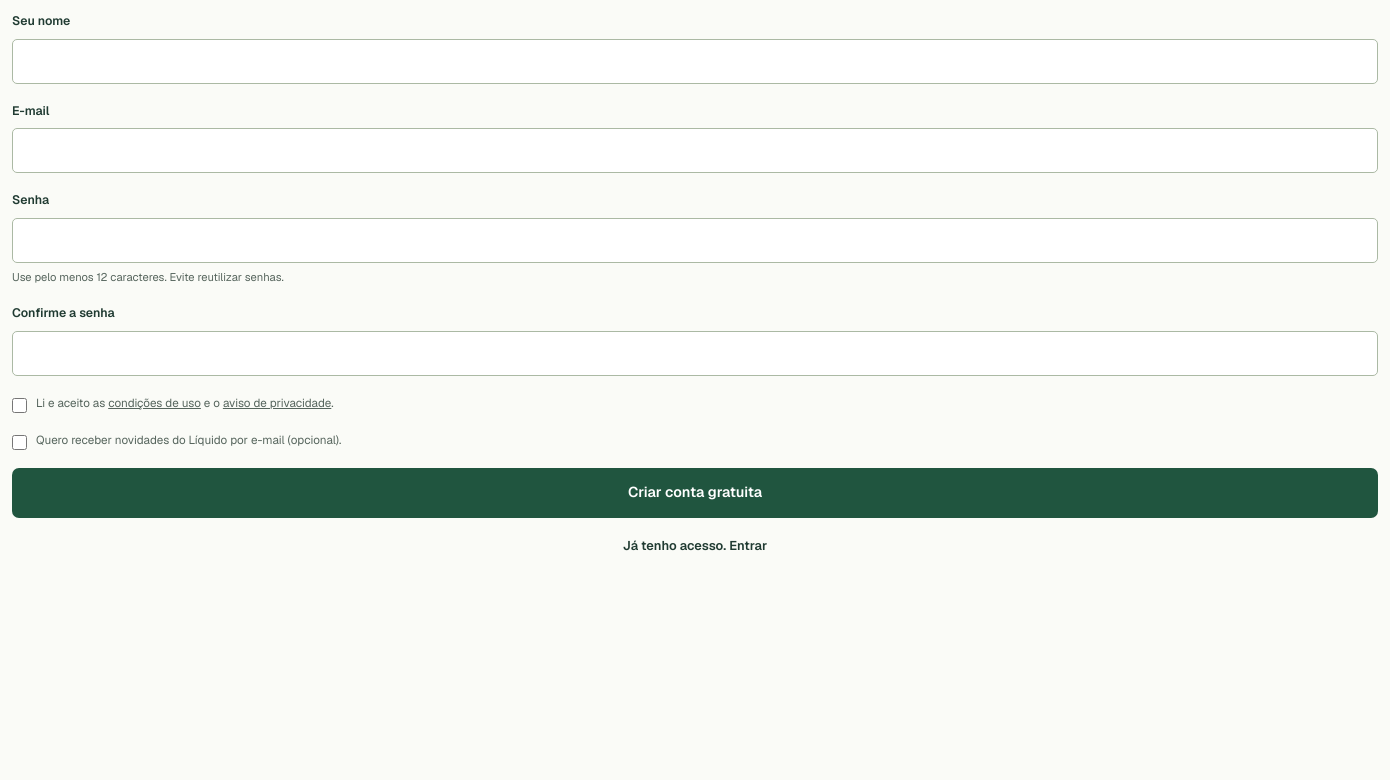
AuthForm › signUp_localNonTestEmail_showsAllowedDomainWithoutRequest
In the field labelled "Seu nome": x=695, y=61 [12,39,1378,84], type "Teste"
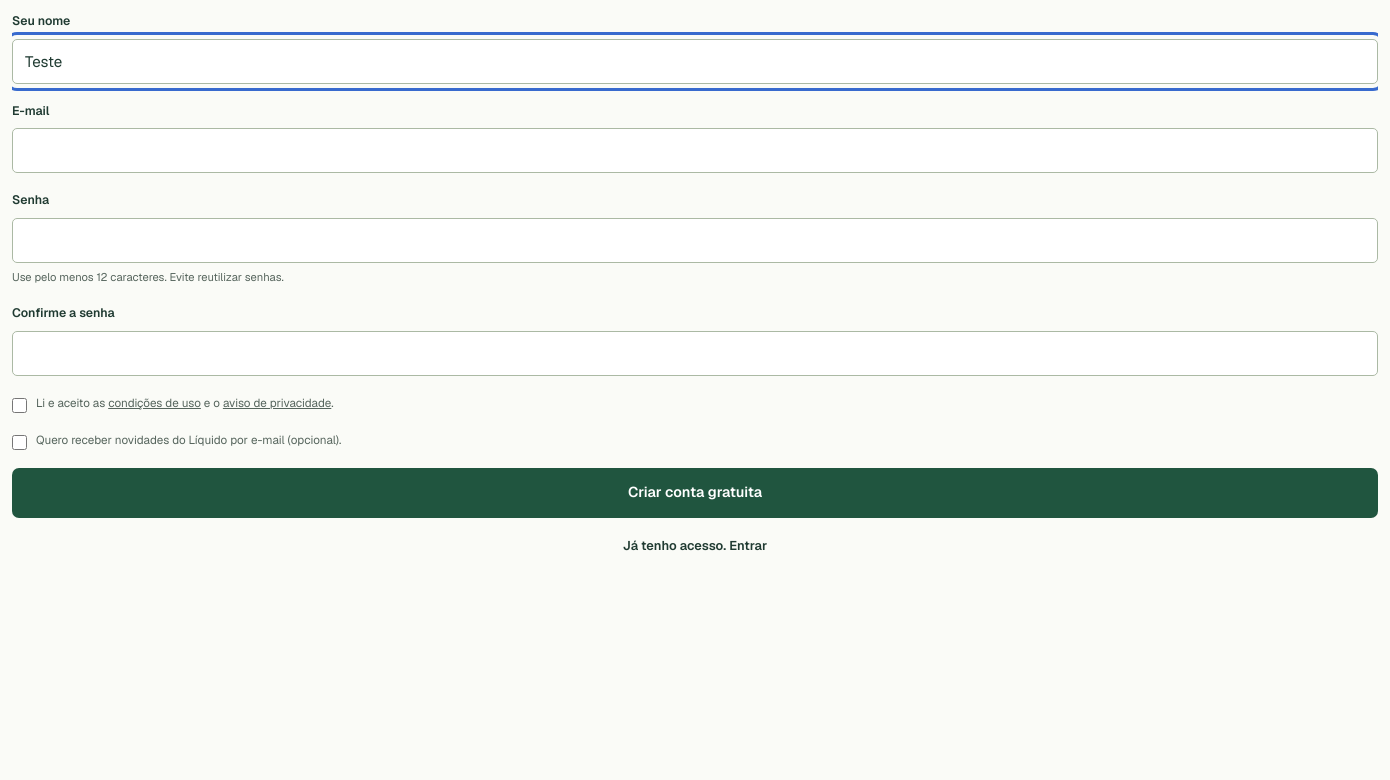
In the field labelled "E-mail": x=695, y=151 [12,128,1378,173], type "teste@example.com"
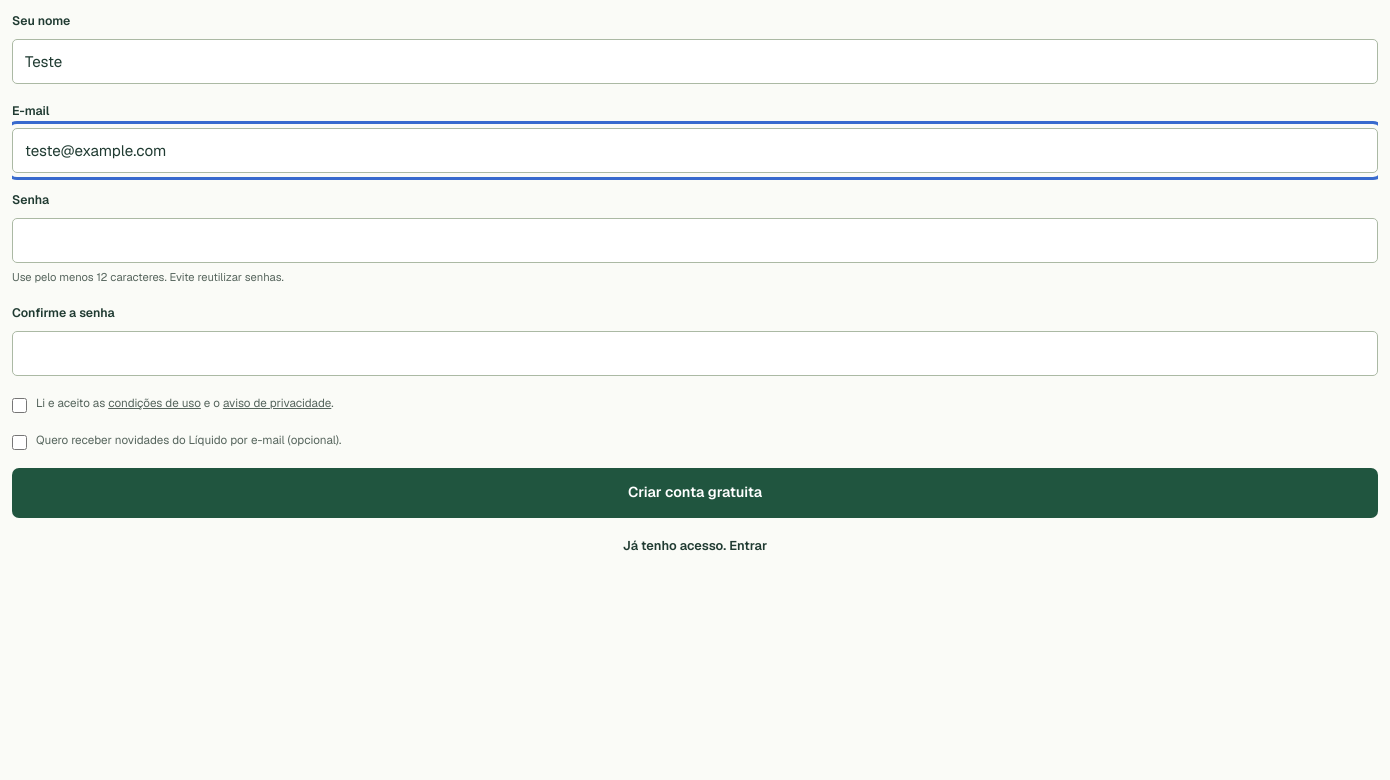
In the password field labelled "Senha": x=695, y=241 [12,218,1378,263], type "senha-de-teste-segura"
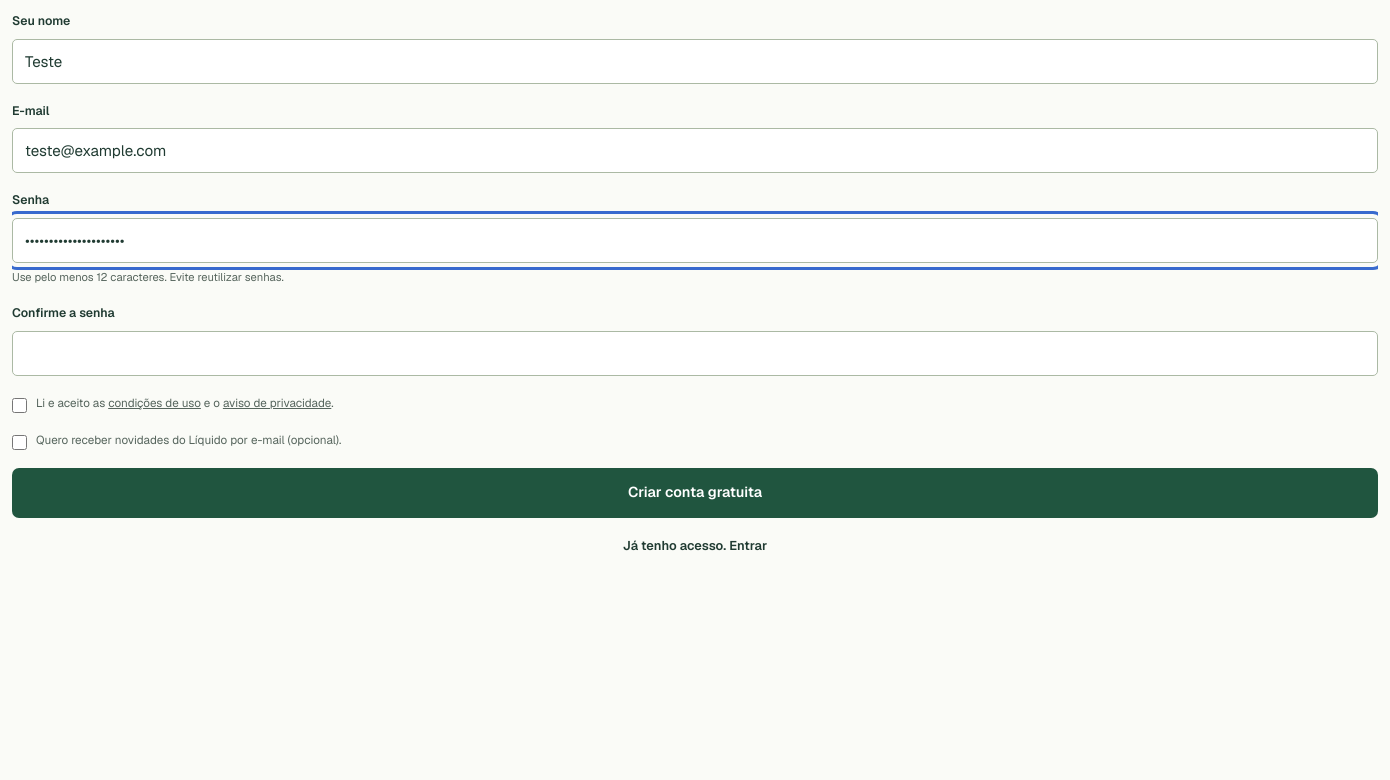
In the password field labelled "Confirme a senha": x=695, y=353 [12,330,1378,376], type "senha-de-teste-segura"
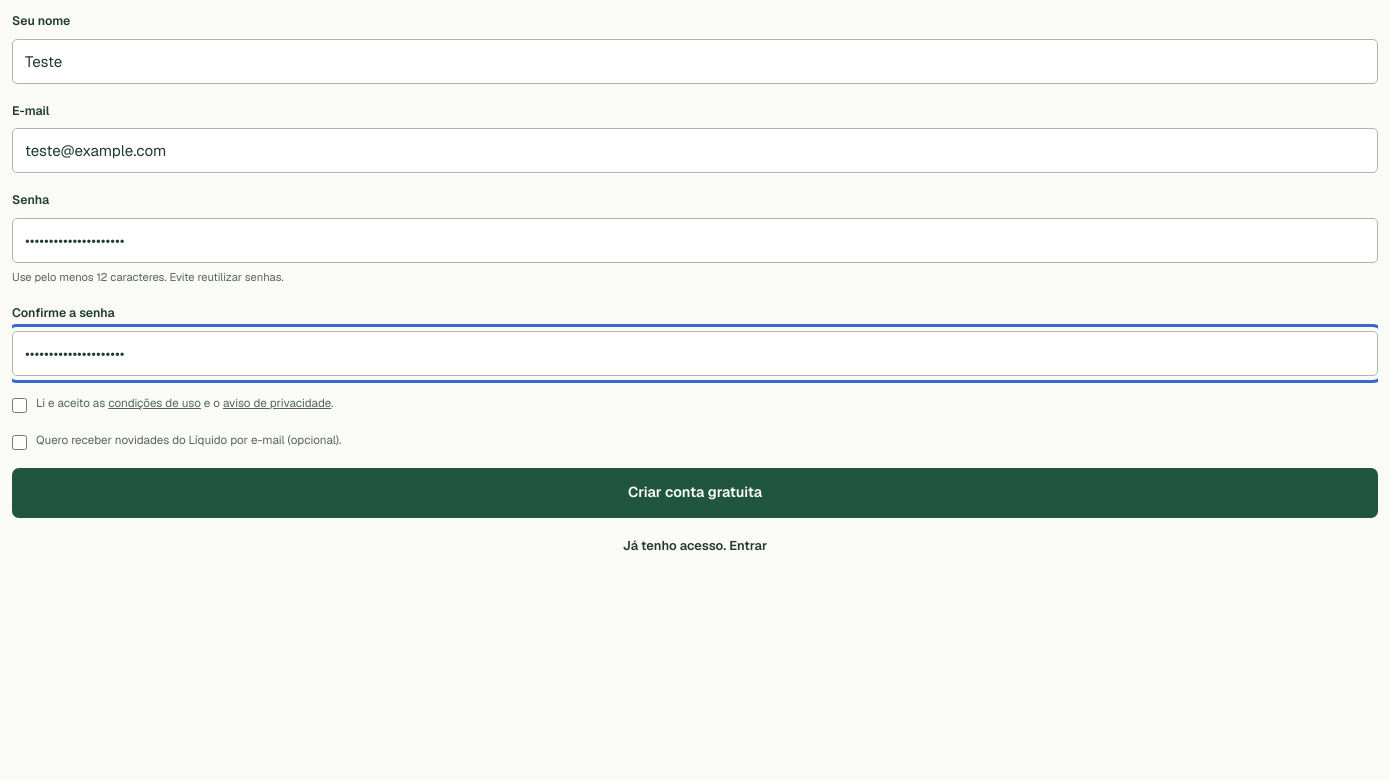
Click the checkbox labelled "Li e aceito as condições de uso e o aviso de privacidade .": x=20, y=405 [12,398,27,412]
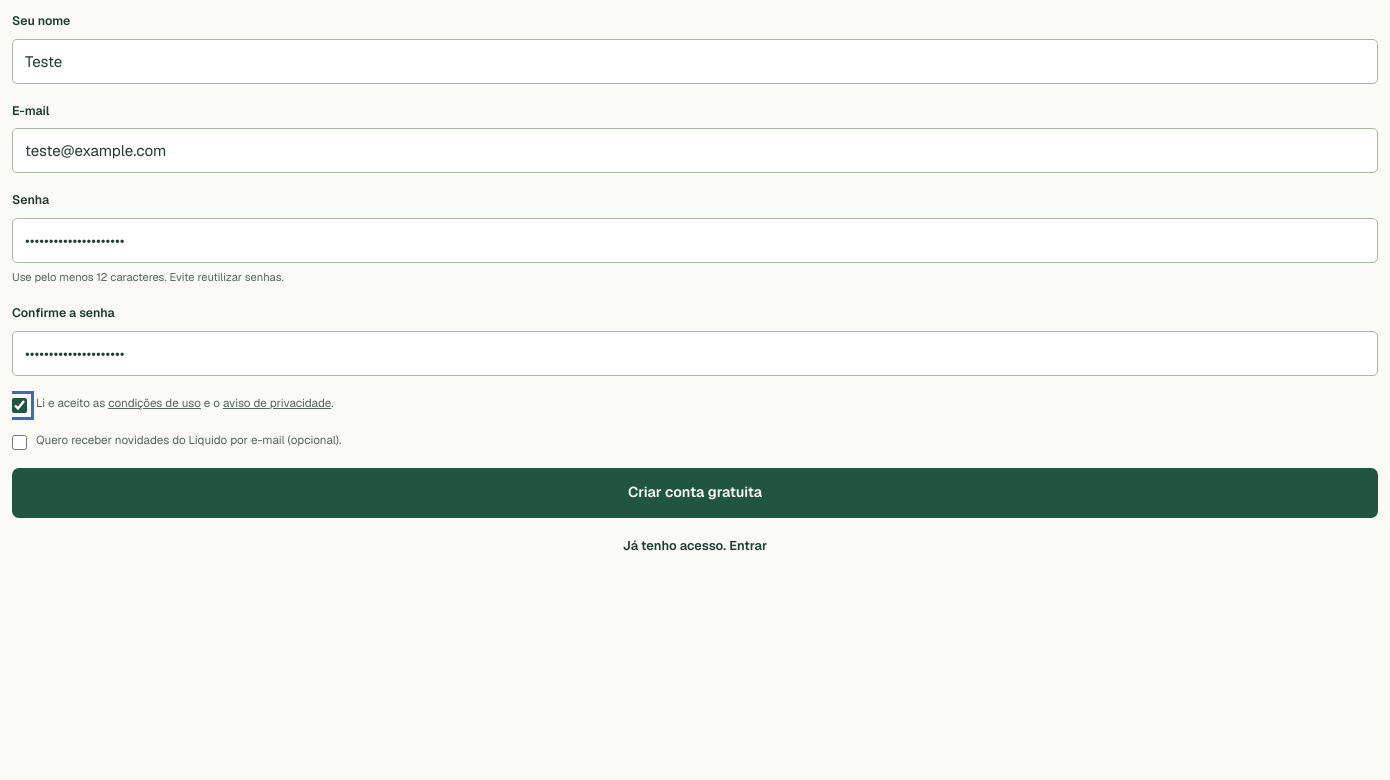
Click the button "Criar conta gratuita": x=695, y=492 [12,468,1378,518]
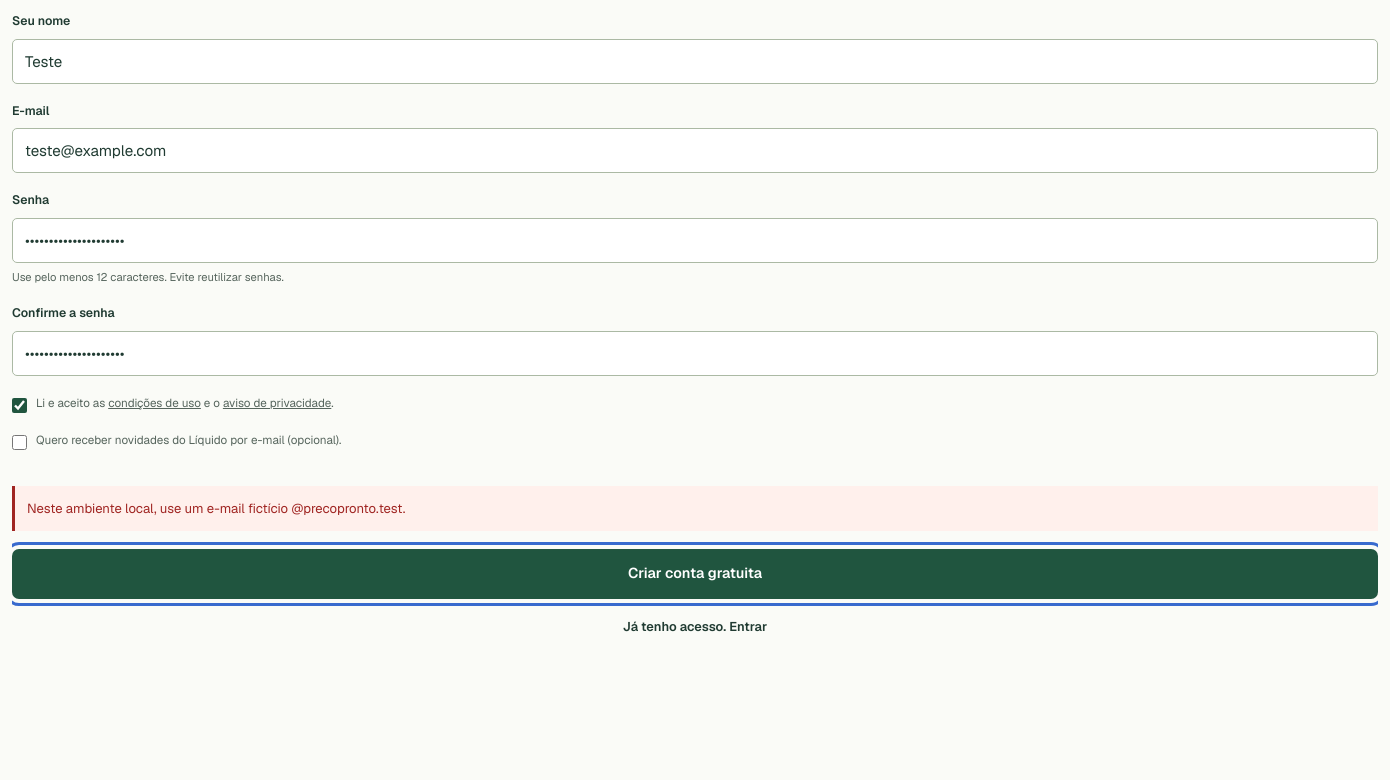
Expected: the message shows "@precopronto.test", [27,500,405,516]
